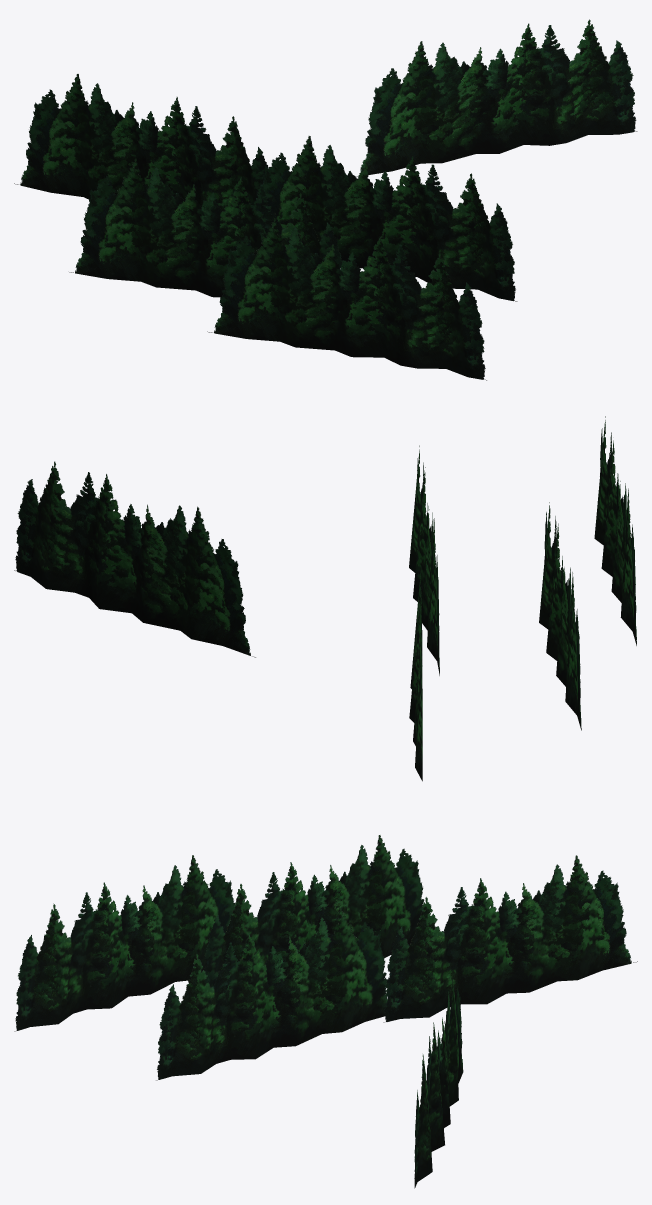
The picture shows the model from 3 angles, top to bottom: view 1: azimuth 30°, elevation 25°; view 2: azimuth 150°, elevation 25°; view 3: azimuth 270°, elevation 25°; orthographic projection. The views are drawn at different scales.
Visible parts, largest first — view 1: sa00zkid00_001; view 2: sa00zkid00_001; view 3: sa00zkid00_001.
Boxes of the visible parts, left/top/right/bottom form: sa00zkid00_001: left=14, top=19, right=637, bottom=380; sa00zkid00_001: left=14, top=416, right=636, bottom=781; sa00zkid00_001: left=14, top=835, right=637, bottom=1188.
Bounding box in the file's own units: 164 × 39.89 × 163.
Materials: 1 (1 with a texture image).
